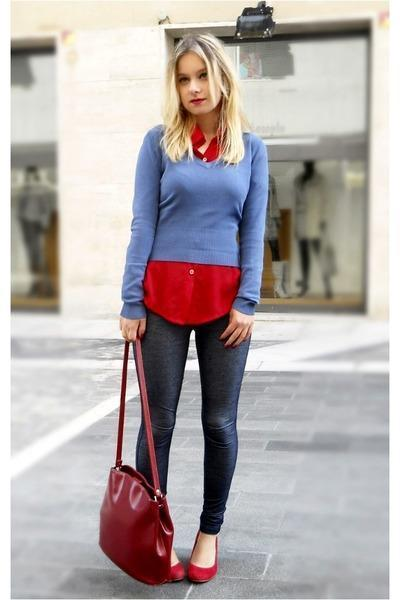bag: (99, 348, 179, 585)
jacket: (121, 125, 268, 318)
pants: (132, 300, 248, 539)
shirt: (142, 132, 241, 323)
